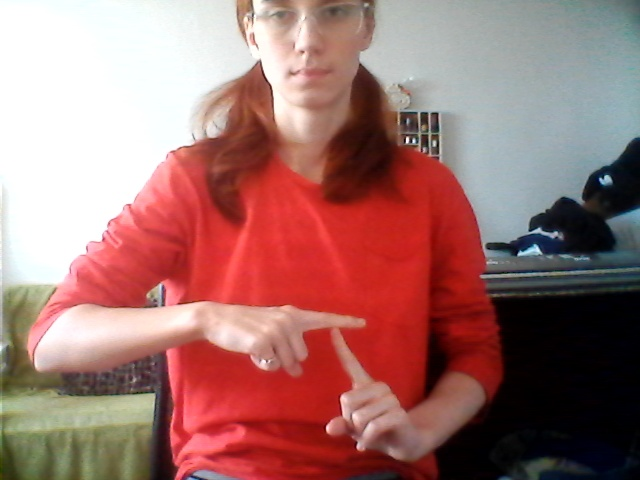t: (254, 278, 415, 461)
